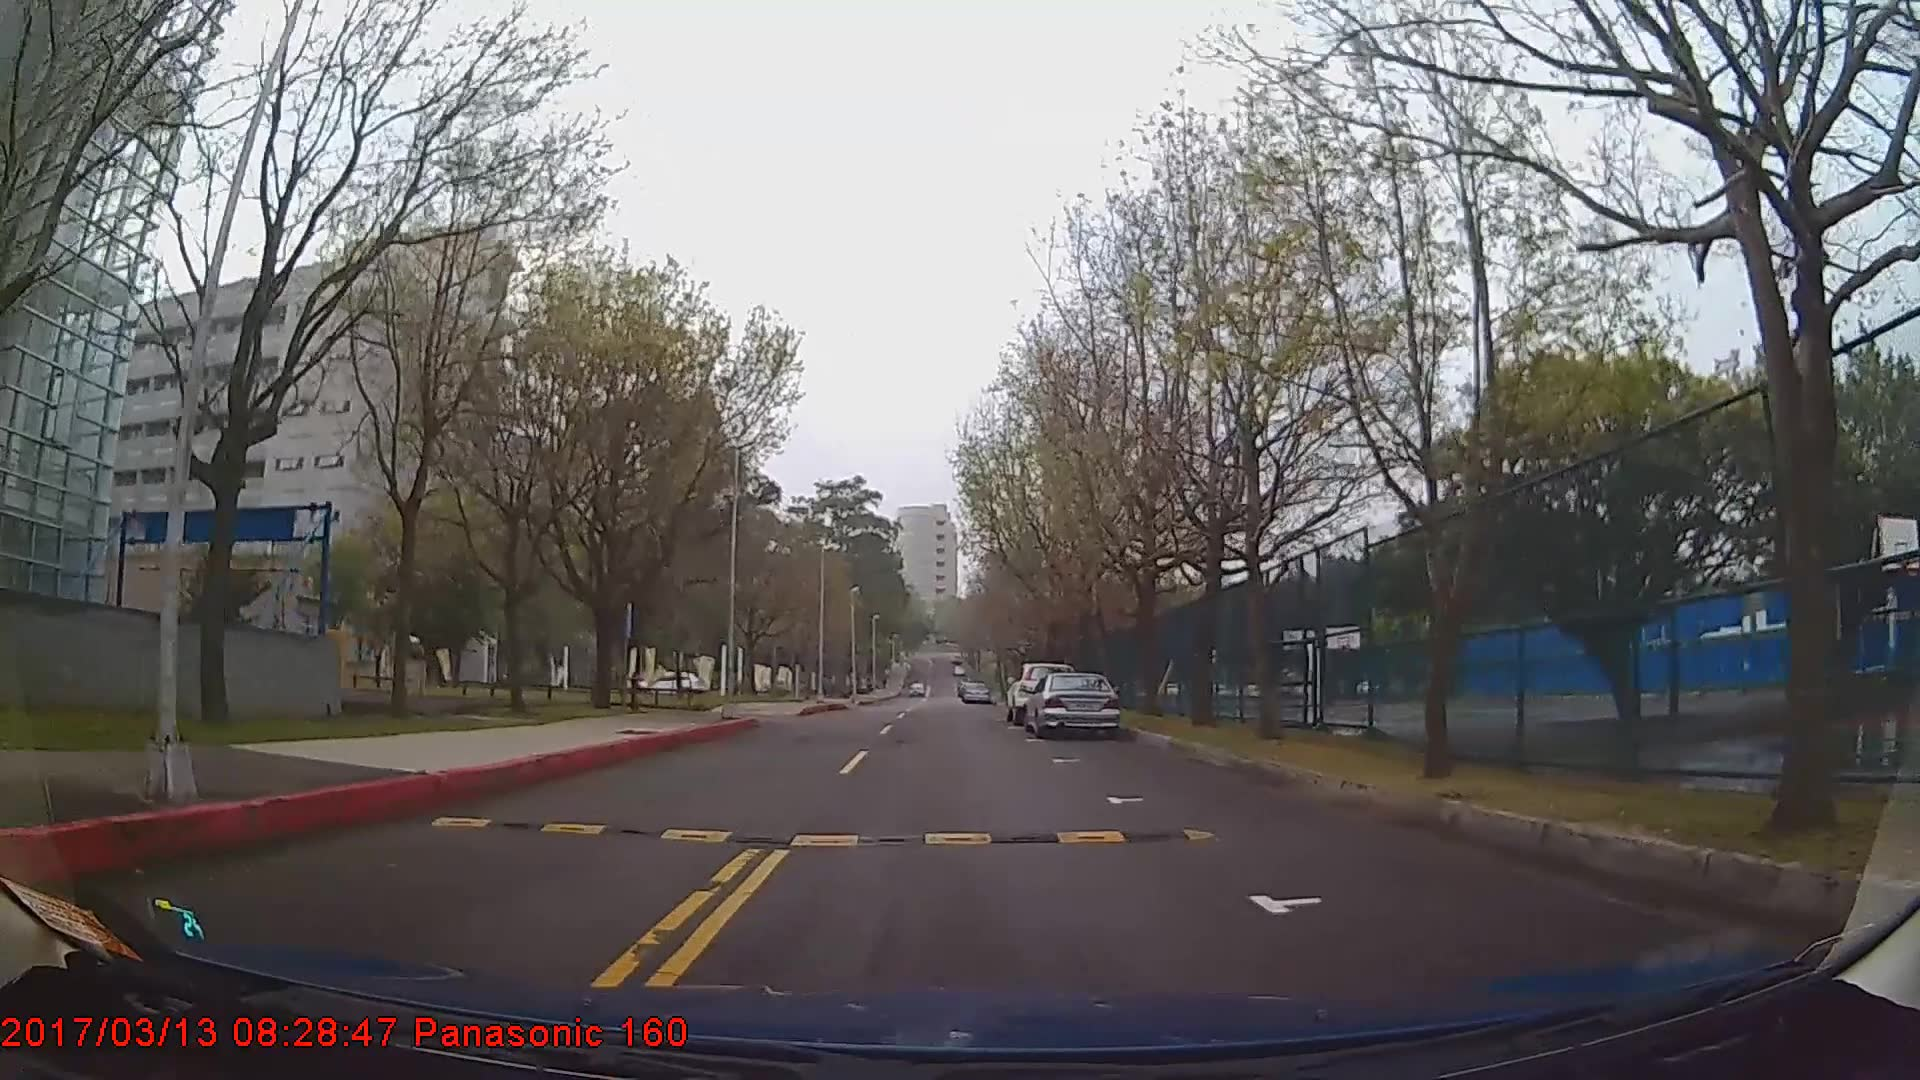vehicle: (1023, 669, 1124, 736), (1006, 661, 1076, 727), (959, 676, 988, 702)
